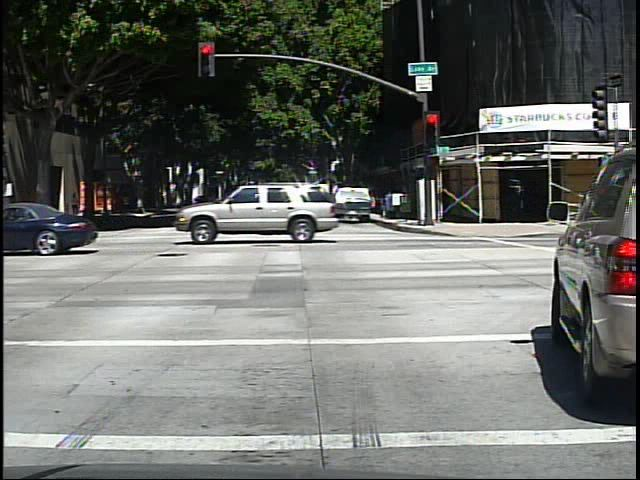car: (534, 148, 637, 391), (174, 184, 340, 246), (5, 198, 98, 258), (335, 184, 370, 224)
